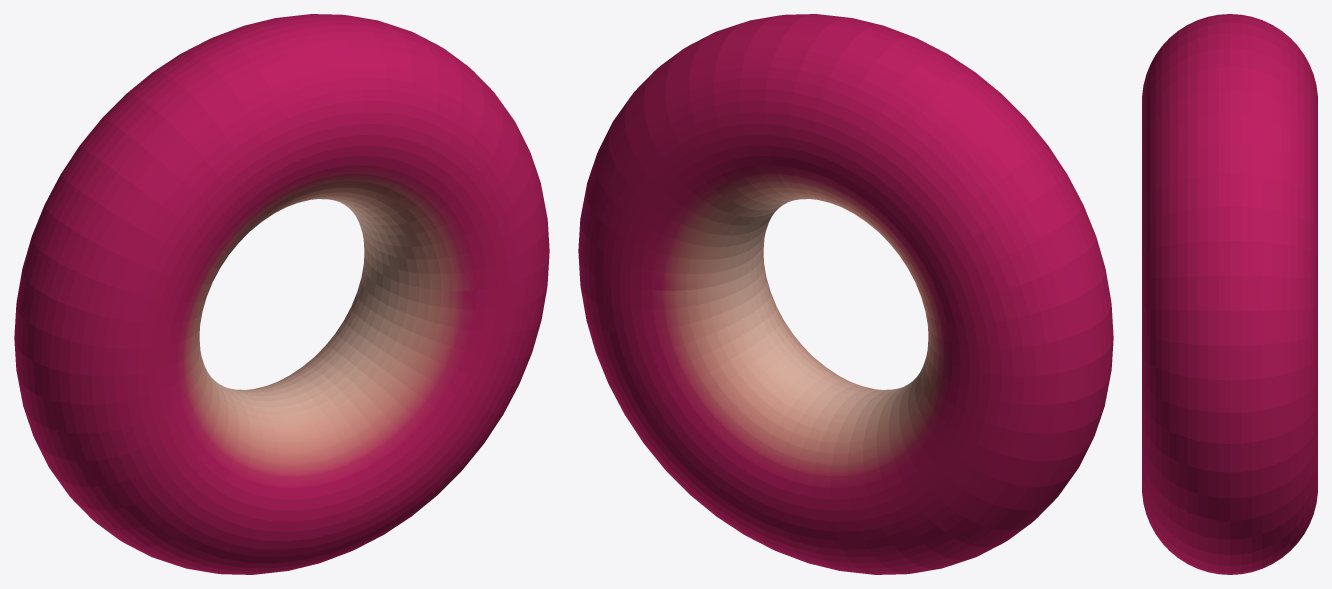
3 views of the same model, side by side, from view 1: azimuth 30°, elevation 25°; view 2: azimuth 150°, elevation 25°; view 3: azimuth 270°, elevation 25° (orthographic). The views are drawn at different scales.
Visible parts, largest first — view 1: world; view 2: world; view 3: world.
Boxes of the visible parts, x1=… form: world: x1=14, y1=14, x2=549, y2=574; world: x1=578, y1=14, x2=1113, y2=574; world: x1=1142, y1=14, x2=1317, y2=574.
Size of the model in its own units: 30.13 by 30.07 by 9.45.
